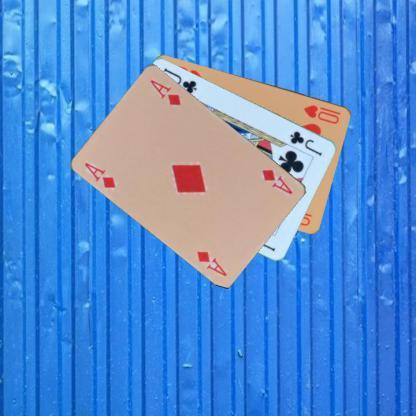10h: (302, 101, 342, 126)
Ad: (258, 166, 294, 196), (82, 160, 117, 190)
Jc: (287, 128, 324, 158)
